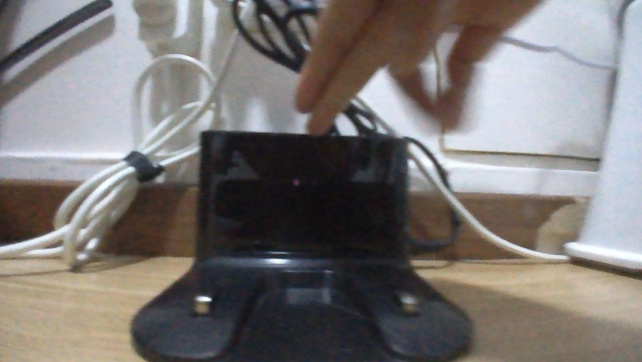charger: (126, 124, 472, 361)
wire: (0, 0, 228, 274), (229, 0, 395, 137), (403, 134, 571, 265), (500, 35, 620, 73)
